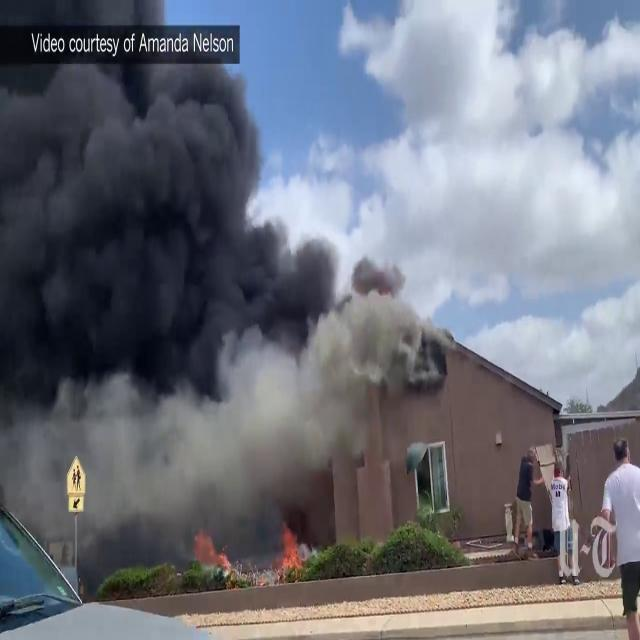Smoke: (0, 0, 438, 526)
